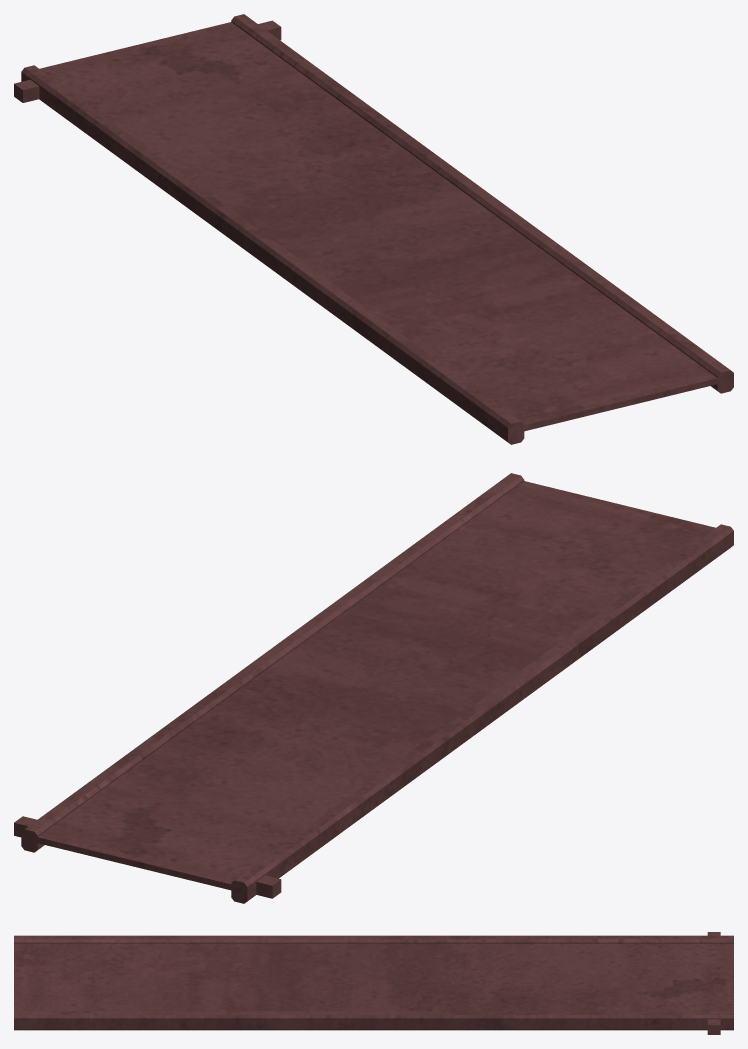
File: brige_2(comp).fbx
The picture shows the model from 3 angles, top to bottom: view 1: azimuth 30°, elevation 25°; view 2: azimuth 150°, elevation 25°; view 3: azimuth 270°, elevation 25°; orthographic projection. The views are drawn at different scales.
Parts seen in each view (by area): view 1: pCube47; view 2: pCube47; view 3: pCube47.
Part boxes in pixels (x1,y1,x2,y2): pCube47: (14,14,733,444); pCube47: (14,473,733,903); pCube47: (14,932,733,1034).
Size of the model in its own units: 55.09 by 4.28 by 180.
Materials: 1 (1 with a texture image).
